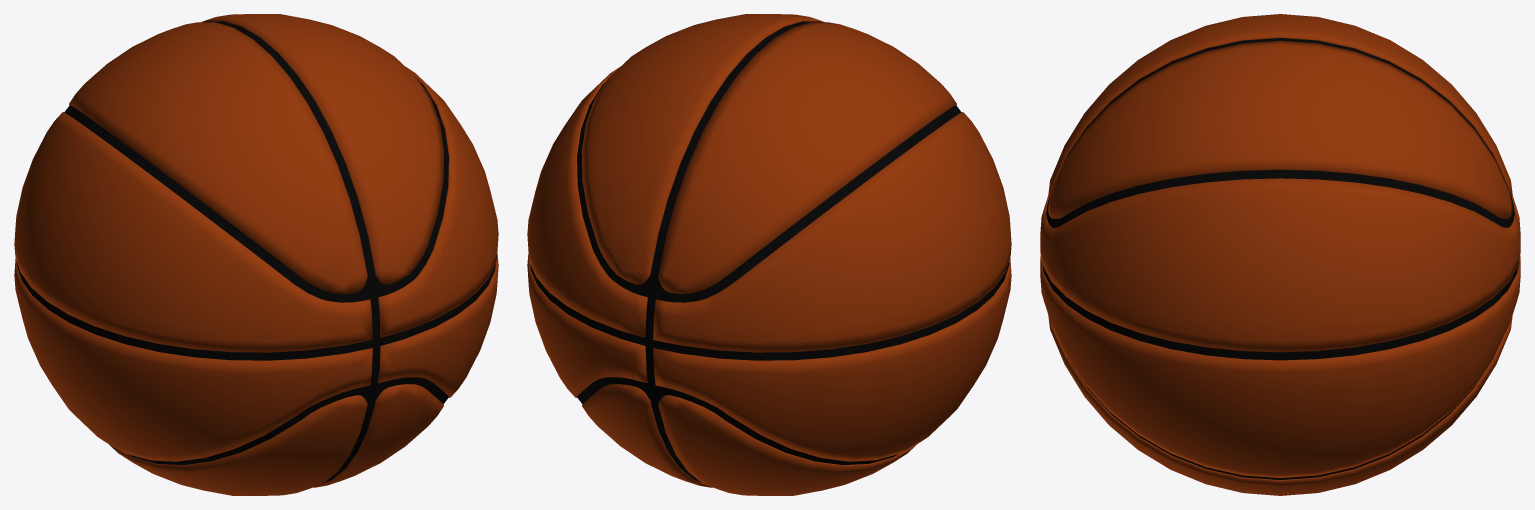
File: Basketball.obj
The picture shows the model from 3 angles, left to right: view 1: azimuth 30°, elevation 25°; view 2: azimuth 150°, elevation 25°; view 3: azimuth 270°, elevation 25°; orthographic projection.
Visible parts, largest first — view 1: leather, seam; view 2: leather, seam; view 3: leather, seam.
Boxes of the visible parts, x1,y1,x2,y2 form: leather: (14,14,498,495); seam: (16,21,495,482); leather: (527,14,1011,495); seam: (530,21,1009,482); leather: (1040,14,1520,495); seam: (1041,38,1519,479).
Bounding box in the file's own units: 6.52 × 6.47 × 6.49.
